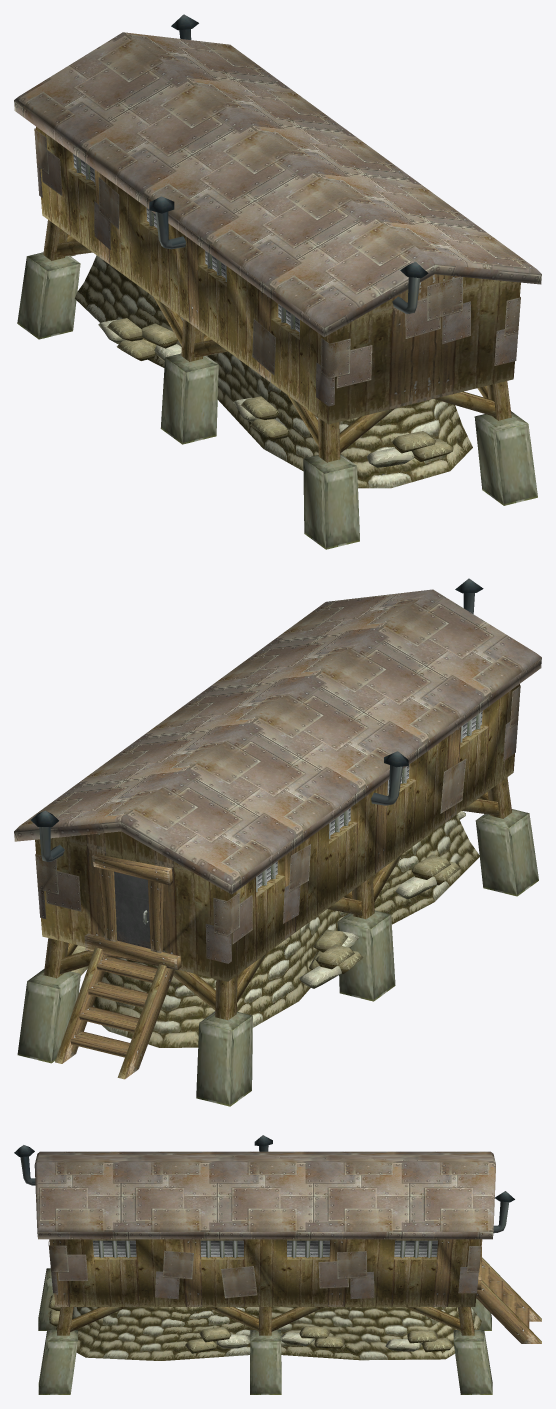
The model's file is gulag.FBX.
3 views of the same model, one above another, from view 1: azimuth 30°, elevation 25°; view 2: azimuth 150°, elevation 25°; view 3: azimuth 270°, elevation 25° (orthographic). The views are drawn at different scales.
Parts seen in each view (by area): view 1: C1SMGULAGBARRACKS, PLATES, BAGS, PIPES, BARS; view 2: C1SMGULAGBARRACKS, PLATES, BAGS, PIPES, BARS; view 3: C1SMGULAGBARRACKS, PLATES, BAGS, BARS, PIPES.
Boxes of the visible parts, x1,y1,x2,y2 form: C1SMGULAGBARRACKS: (14, 32, 541, 549); PLATES: (34, 128, 520, 406); BAGS: (98, 318, 453, 467); PIPES: (149, 14, 428, 313); BARS: (76, 156, 299, 335); C1SMGULAGBARRACKS: (14, 589, 541, 1106); PLATES: (35, 685, 520, 963); BAGS: (71, 811, 465, 988); PIPES: (31, 578, 483, 861); BARS: (143, 712, 481, 924); C1SMGULAGBARRACKS: (34, 1151, 541, 1394); PLATES: (48, 1241, 481, 1299); BAGS: (48, 1294, 452, 1353); BARS: (98, 1240, 432, 1257); PIPES: (14, 1135, 514, 1233).
Bounding box in the file's own units: 9.52 × 10.51 × 24.83.
10 materials, 10 textured.
